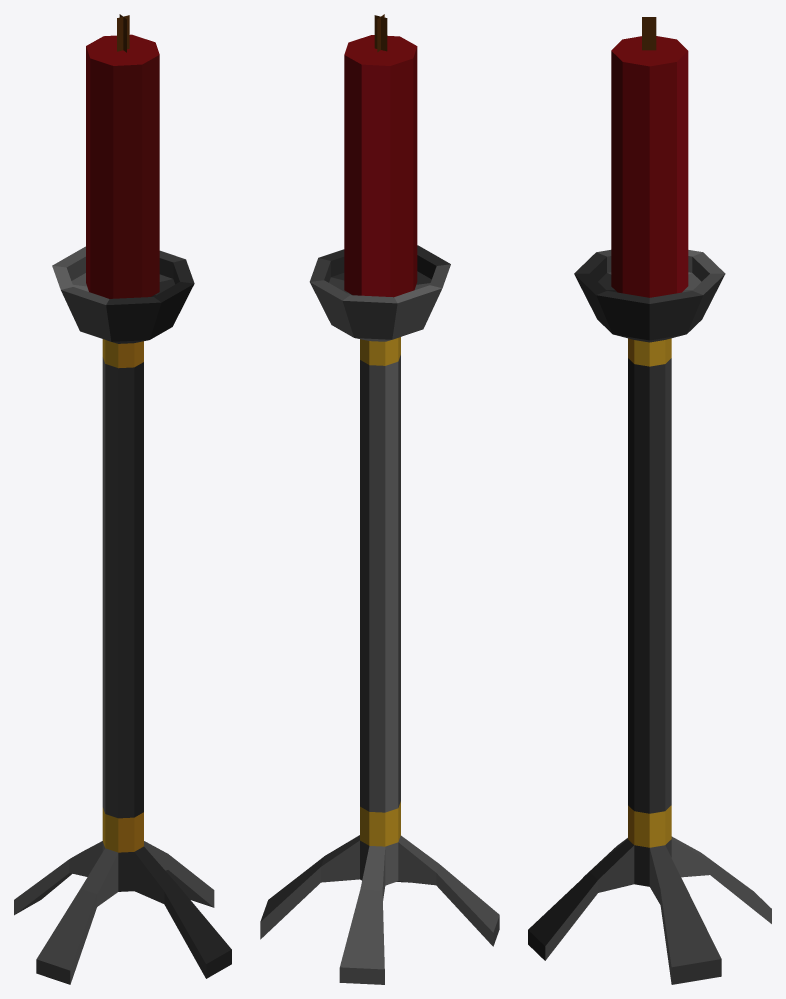
File: candle_336x10.gltf
The picture shows the model from 3 angles, left to right: view 1: azimuth 30°, elevation 25°; view 2: azimuth 150°, elevation 25°; view 3: azimuth 270°, elevation 25°; orthographic projection.
Parts seen in each view (by area): view 1: candle_336x10; view 2: candle_336x10; view 3: candle_336x10.
Boxes of the visible parts, x1,y1,x2,y2 form: candle_336x10: [14, 14, 231, 984]; candle_336x10: [260, 14, 499, 984]; candle_336x10: [528, 17, 771, 984].
Bounding box in the file's own units: 0.4538 × 1.98 × 0.4768.
1 material, 1 textured.
